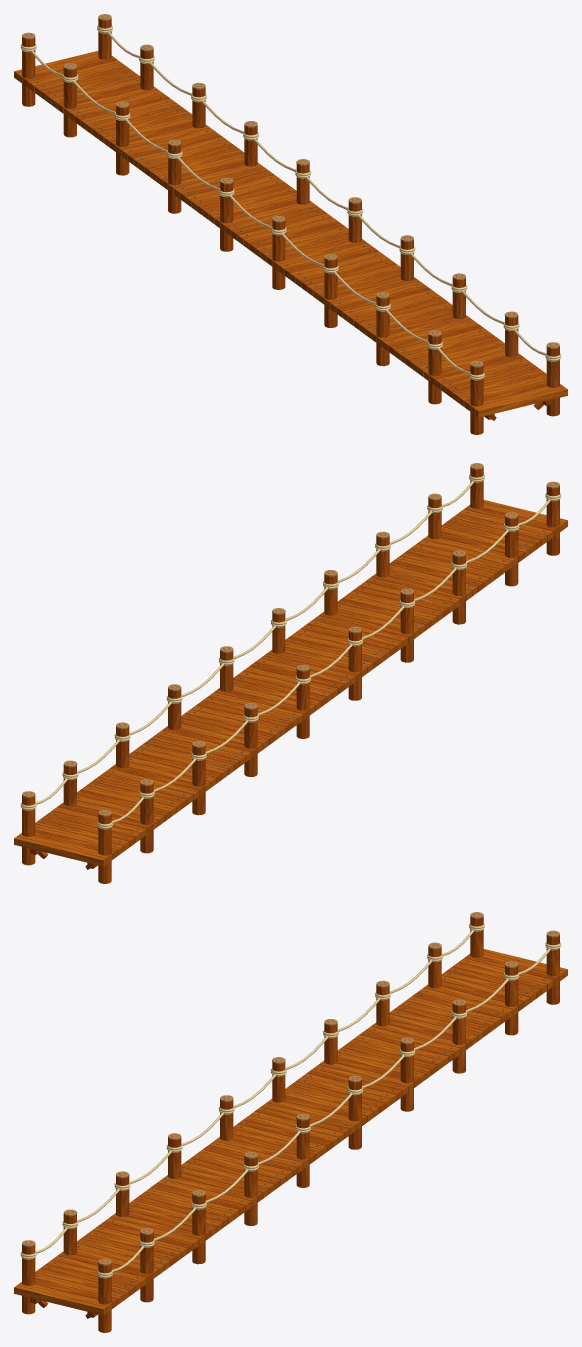
The model's file is wooden-bridge-16.gltf.
3 renders of one model, top to bottom at view 1: azimuth 30°, elevation 25°; view 2: azimuth 150°, elevation 25°; view 3: azimuth 330°, elevation 25°, orthographic.
Visible parts, largest first — view 1: wooden-bridge-16; view 2: wooden-bridge-16; view 3: wooden-bridge-16.
Boxes of the visible parts, x1,y1,x2,y2 form: wooden-bridge-16: (14,14,567,434); wooden-bridge-16: (14,463,567,883); wooden-bridge-16: (14,912,567,1332).
Size of the model in its own units: 1.8 by 1.31 by 16.
Materials: 2 (1 with a texture image).
